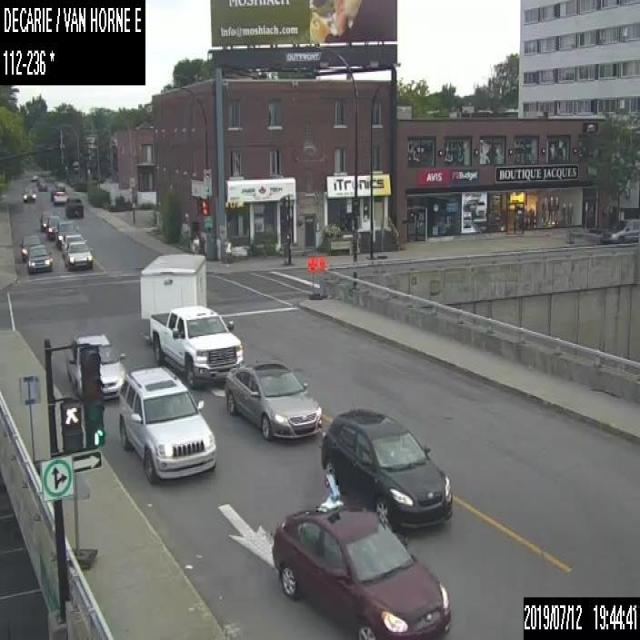construction: (66, 468, 96, 573), (18, 372, 46, 474), (306, 254, 317, 298), (316, 253, 326, 298)
vehicle: (272, 471, 449, 638), (320, 408, 452, 531), (138, 252, 242, 388), (118, 366, 215, 482), (223, 360, 321, 441), (64, 333, 126, 402), (599, 215, 639, 242), (64, 240, 94, 270), (28, 242, 52, 275), (54, 219, 78, 248), (61, 232, 86, 258), (20, 233, 40, 262), (45, 214, 63, 238), (65, 196, 83, 216), (49, 181, 65, 201), (40, 210, 52, 230), (22, 185, 36, 201), (52, 190, 67, 204)
